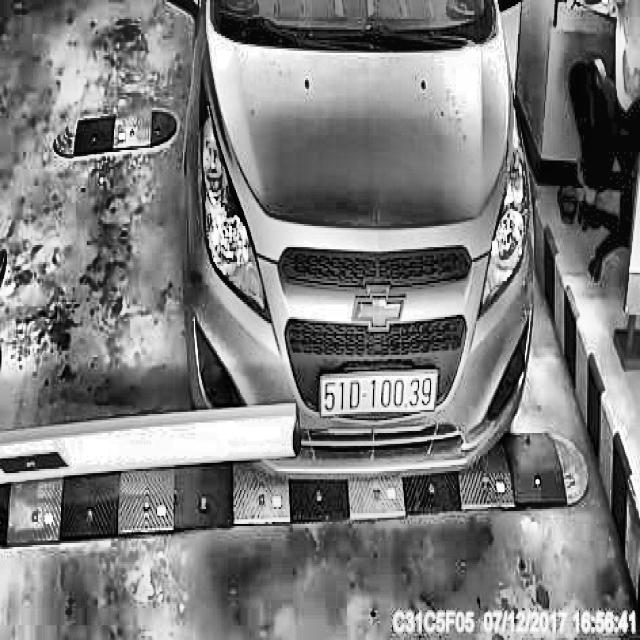plate: (317, 365, 440, 424)
